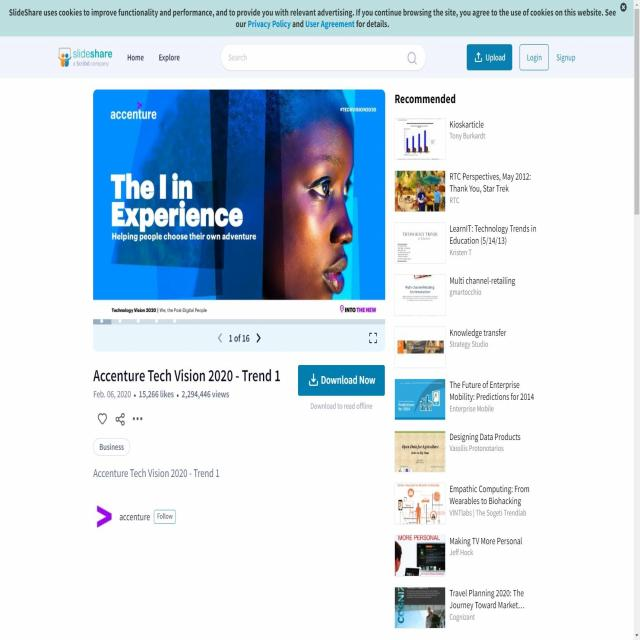button: (467, 43, 513, 72), (520, 43, 550, 72), (94, 436, 130, 456), (154, 508, 176, 524), (95, 410, 108, 428), (114, 410, 127, 428)
input: (221, 43, 427, 71), (298, 364, 386, 398)
